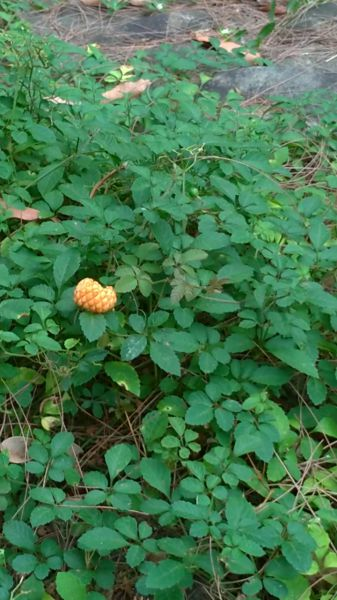eggs: (69, 274, 121, 319)
